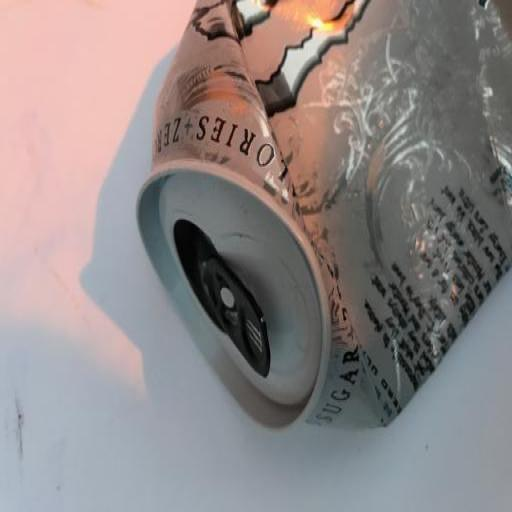waste: (124, 0, 512, 445)
